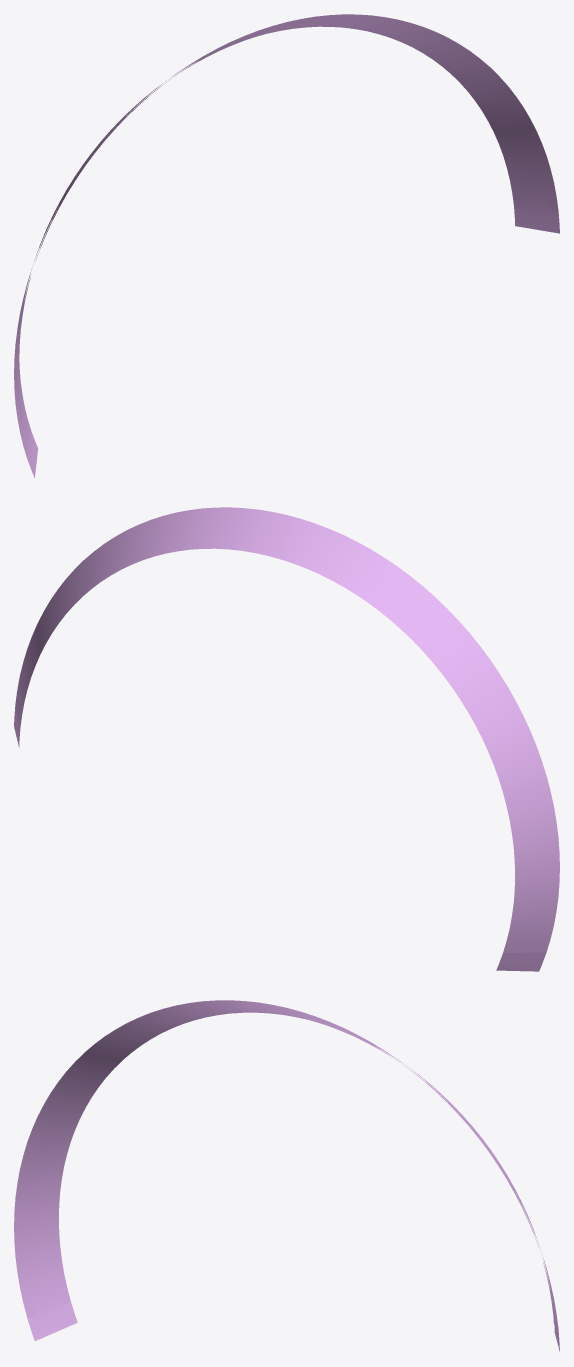
The model's file is Mesh_Note_34.fbx.
3 views of the same model, one above another, from view 1: azimuth 30°, elevation 25°; view 2: azimuth 150°, elevation 25°; view 3: azimuth 330°, elevation 25° (orthographic).
Visible parts, largest first — view 1: Mesh_Note_34; view 2: Mesh_Note_34; view 3: Mesh_Note_34.
Boxes of the visible parts, <box> form: Mesh_Note_34: <box>14,14,559,478</box>; Mesh_Note_34: <box>14,507,559,971</box>; Mesh_Note_34: <box>14,1000,559,1351</box>.
Bounding box in the file's own units: 3.56 × 2.46 × 0.2235.
